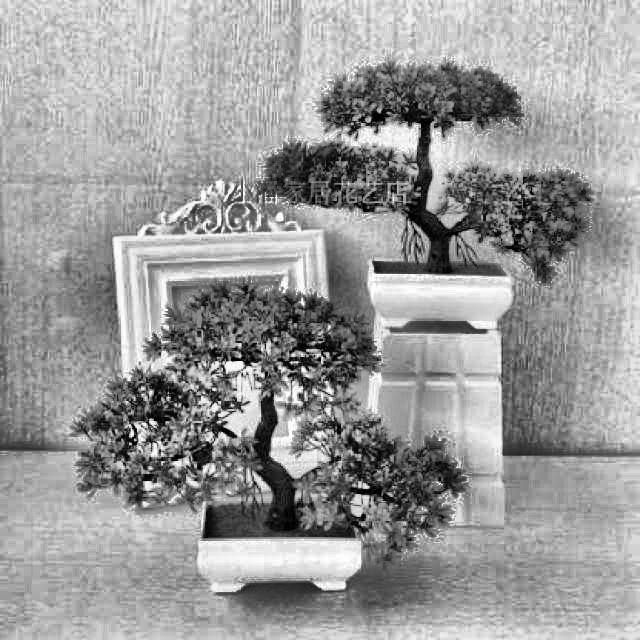plants: (151, 286, 397, 592)
